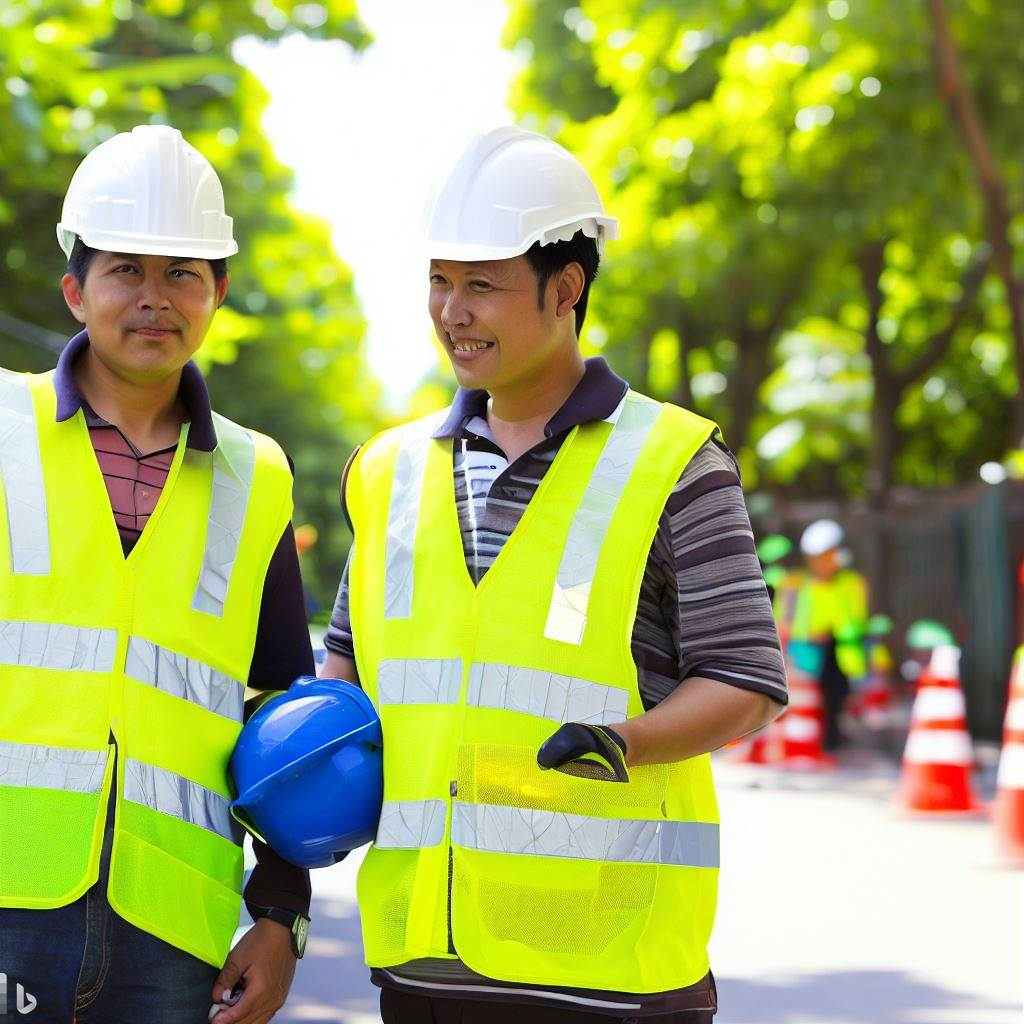Helmet: (224, 672, 397, 873), (409, 122, 622, 270), (53, 119, 241, 280)
Reflective vest: (337, 393, 729, 998), (1, 370, 291, 982)
